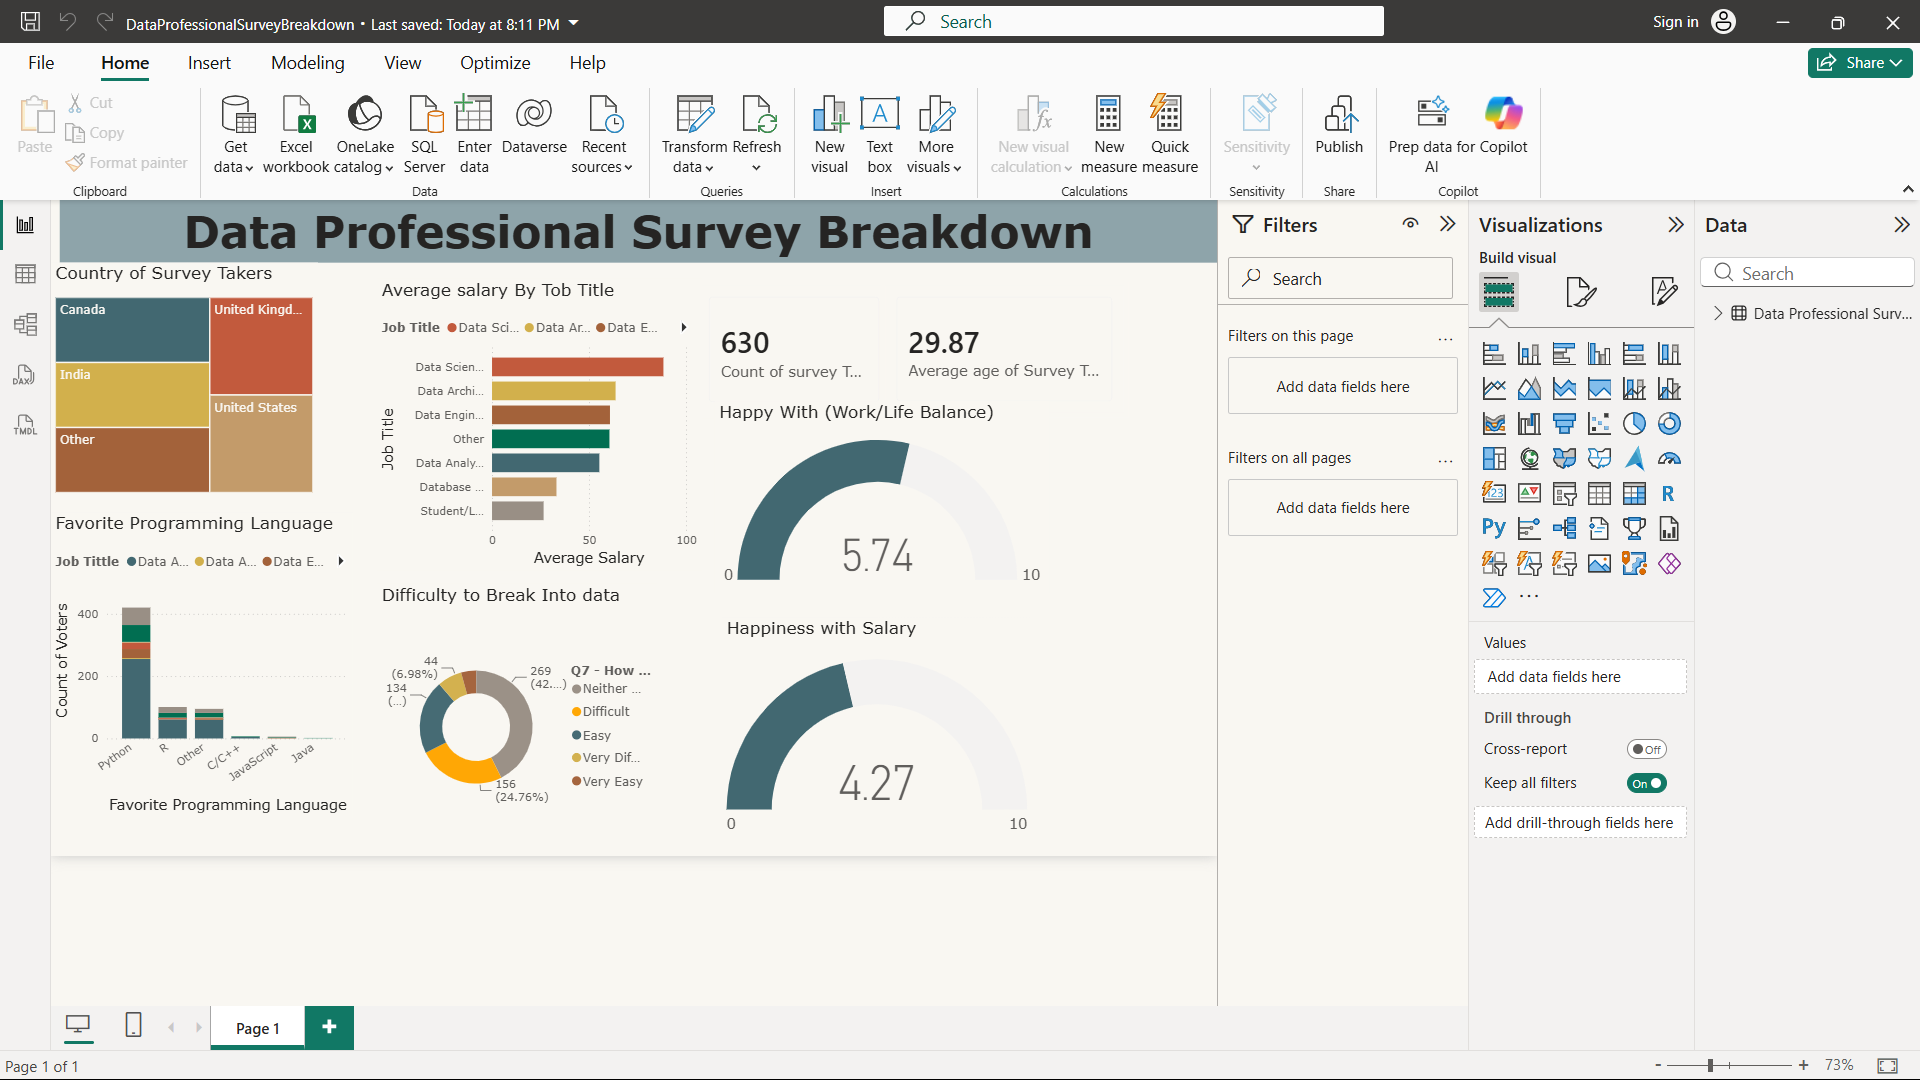

This screenshot's page, from the dashboard's own definition file:
{"tool":"powerbi","page":{"name":"Page 1","canvas":[1280,720],"ordinal":0},"visuals":[{"type":"textbox","box":[9.6,0,1270.7,68.6],"z":0},{"type":"cardVisual","fields":{"Data":["CountNonNull(Data Professional Survey.Unique ID)"]},"box":[705,88.8,221.2,150],"z":1000},{"type":"cardVisual","fields":{"Data":["Avg(Data Professional Survey.Q10 - Current Age)"]},"box":[911.2,88.8,271.7,149.6],"z":2000},{"type":"barChart","title":"Average salary By Tob Title","fields":{"Category":["Data Professional Survey.Q1 - Which Title Best Fits your Current Role?.1"],"Y":["Avg(Data Professional Survey.Average salary)"],"Series":["Data Professional Survey.Q1 - Which Title Best Fits your Current Role?.1"]},"box":[358.8,86.2,356.2,320],"z":3000},{"type":"columnChart","title":" Favorite Programming Language","fields":{"Category":["Data Professional Survey.Q5 - Favorite Programming Language.1"],"Y":["CountNonNull(Data Professional Survey.Unique ID)"],"Series":["Data Professional Survey.Q1 - Which Title Best Fits your Current Role?.1"]},"box":[0,342.5,331.2,335],"z":4000},{"type":"treemap","title":"Country of Survey Takers","fields":{"Group":["Data Professional Survey.Q11 - Which Country do you live in?.1"],"Values":["Count(Data Professional Survey.Q11 - Which Country do you live in?.1)"]},"box":[0,68.8,292.5,257.5],"z":5000},{"type":"gauge","title":"Happy With (Work/Life Balance)","fields":{"Y":["Avg(Data Professional Survey.Q6 - How Happy are you in your Current Position with the following? (Work/Life Balance))"],"MinValue":["Min(Data Professional Survey.Q6 - How Happy are you in your Current Position with the following? (Work/Life Balance))"],"MaxValue":["Max(Data Professional Survey.Q6 - How Happy are you in your Current Position with the following? (Work/Life Balance))1"]},"box":[728.8,221.2,367.5,210],"z":6000},{"type":"gauge","title":"Happiness with Salary","fields":{"Y":["Avg(Data Professional Survey.Q6 - How Happy are you in your Current Position with the following? (Salary))"],"MinValue":["Min(Data Professional Survey.Q6 - How Happy are you in your Current Position with the following? (Salary))"],"MaxValue":["Max(Data Professional Survey.Q6 - How Happy are you in your Current Position with the following? (Salary))"]},"box":[737.5,458.8,340,252.5],"z":7000},{"type":"donutChart","title":"Difficulty to Break Into data","fields":{"Category":["Data Professional Survey.Q7 - How difficult was it for you to break into Data?"],"Y":["CountNonNull(Data Professional Survey.Q7 - How difficult was it for you to break into Data?)"]},"box":[358.8,421.2,307.5,281.2],"z":8000}]}

Visuals, with their boxes on the page's 1280x720 design canvas (x1, y1, x2, y2). These are canvas units, not pixel positions in the 1920x1080 screenshot, which may show the page scaled, cropped or inside an application window:
textbox: (10,0,1280,69)
cardVisual - CountNonNull(Data Professional Survey.Unique ID): (705,89,926,239)
cardVisual - Avg(Data Professional Survey.Q10 - Current Age): (911,89,1183,238)
"Average salary By Tob Title" barChart: (359,86,715,406)
" Favorite Programming Language" columnChart: (0,342,331,678)
"Country of Survey Takers" treemap: (0,69,292,326)
"Happy With (Work/Life Balance)" gauge: (729,221,1096,431)
"Happiness with Salary" gauge: (738,459,1078,711)
"Difficulty to Break Into data" donutChart: (359,421,666,702)
